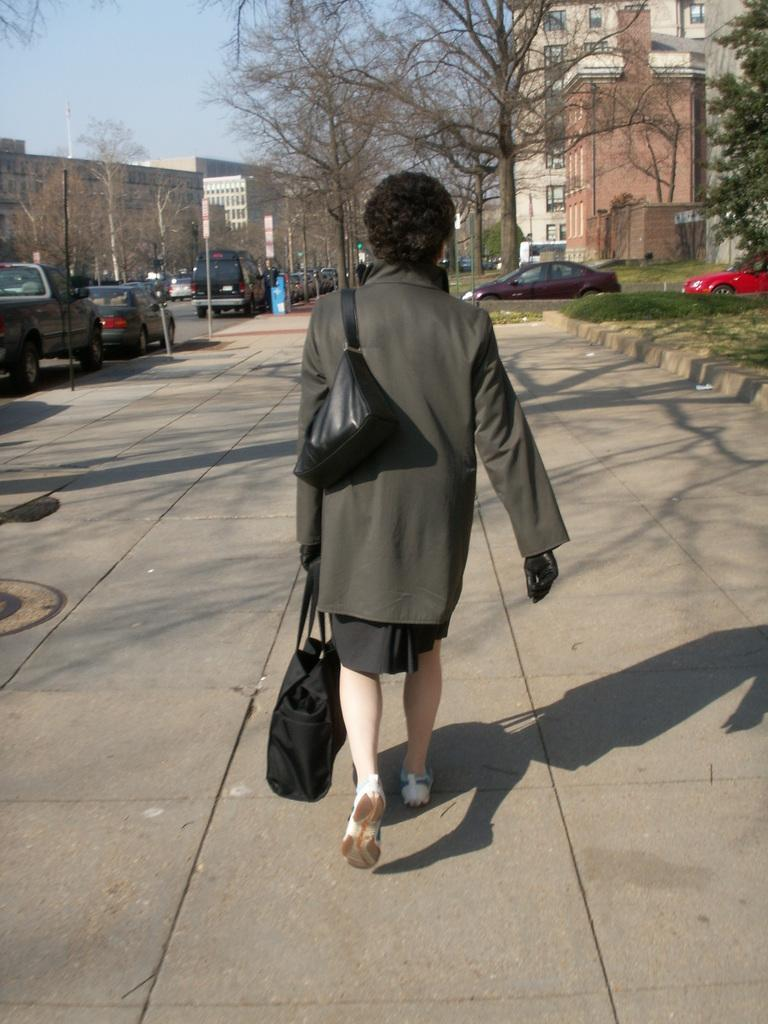Luggage-and-bags: (288, 285, 398, 491), (267, 559, 351, 810)
